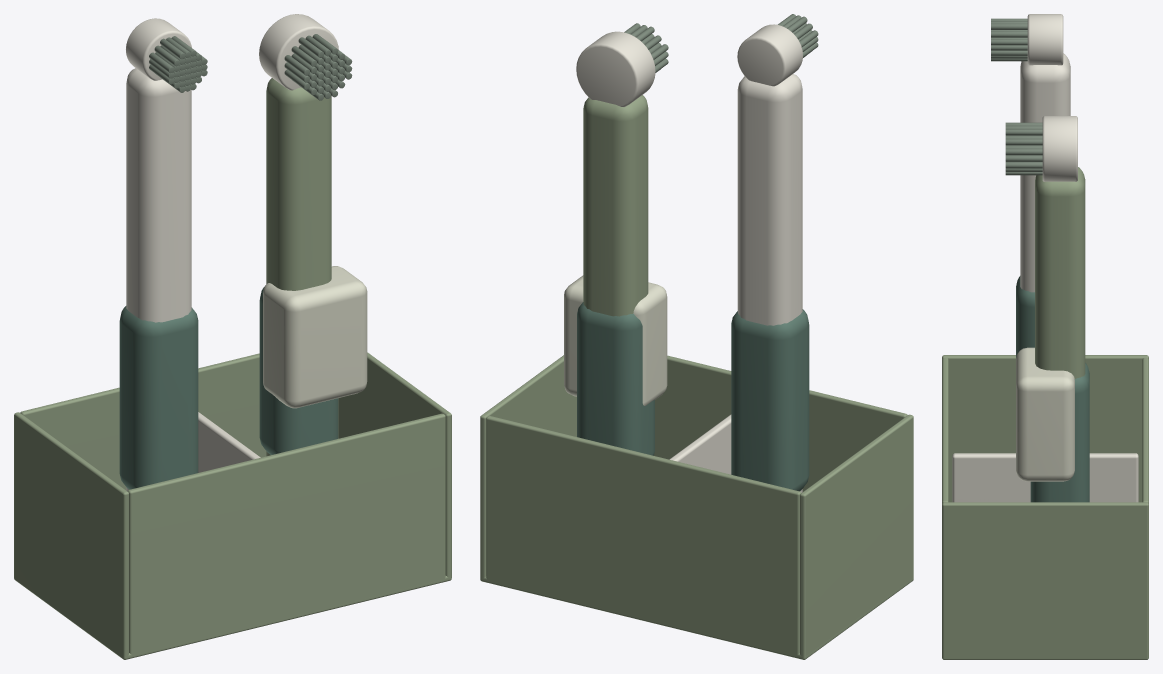
The model's file is appliance.glb.
The picture shows the model from 3 angles, left to right: view 1: azimuth 30°, elevation 25°; view 2: azimuth 150°, elevation 25°; view 3: azimuth 270°, elevation 25°; orthographic projection. The views are drawn at different scales.
Parts seen in each view (by area): view 1: Divided precision-tool holder front, Divided precision-tool holder left, Long precision brush handle, Long precision brush soft grip, Angled precision brush handle, Washable detail sleeve, Divided precision-tool holder back, Divided precision-tool holder right, Angled precision brush soft grip, Angled precision brush head, Dividing fin, Long precision brush head (+1 smaller); view 2: Divided precision-tool holder back, Divided precision-tool holder left, Long precision brush handle, Angled precision brush handle, Long precision brush soft grip, Divided precision-tool holder front, Angled precision brush soft grip, Divided precision-tool holder right, Washable detail sleeve, Angled precision brush head, Long precision brush head, Dividing fin; view 3: Divided precision-tool holder right, Divided precision-tool holder left, Angled precision brush handle, Washable detail sleeve, Dividing fin, Long precision brush handle, Angled precision brush soft grip, Angled precision brush head, Long precision brush head, Long precision brush soft grip, Divided precision-tool holder back, Divided precision-tool holder front.
Part boxes in pixels (x1,y1,x2,y2): Divided precision-tool holder front: (127, 413, 445, 658); Divided precision-tool holder left: (14, 412, 128, 659); Long precision brush handle: (126, 68, 191, 491); Long precision brush soft grip: (119, 306, 198, 489); Angled precision brush handle: (266, 78, 331, 456); Washable detail sleeve: (263, 266, 367, 408); Divided precision-tool holder back: (20, 353, 338, 490); Divided precision-tool holder right: (338, 352, 451, 578); Angled precision brush soft grip: (259, 286, 338, 454); Angled precision brush head: (259, 14, 338, 90); Dividing fin: (198, 412, 260, 472); Long precision brush head: (126, 18, 191, 80); Divided precision-tool holder back: (486, 416, 801, 658); Divided precision-tool holder left: (800, 414, 913, 659); Long precision brush handle: (737, 74, 802, 492); Angled precision brush handle: (583, 95, 648, 316); Long precision brush soft grip: (731, 309, 809, 491); Divided precision-tool holder front: (654, 355, 907, 491); Angled precision brush soft grip: (577, 302, 654, 455); Divided precision-tool holder right: (480, 355, 576, 581); Washable detail sleeve: (564, 275, 667, 405); Angled precision brush head: (576, 31, 655, 106); Long precision brush head: (737, 24, 802, 86); Dividing fin: (669, 414, 731, 474); Divided precision-tool holder right: (942, 502, 1148, 659); Divided precision-tool holder left: (942, 355, 1148, 502); Angled precision brush handle: (1035, 167, 1085, 378); Washable detail sleeve: (1016, 347, 1074, 481); Dividing fin: (952, 453, 1138, 502); Long precision brush handle: (1020, 53, 1070, 292); Angled precision brush soft grip: (1030, 363, 1089, 502); Angled precision brush head: (1042, 116, 1077, 181); Long precision brush head: (1027, 14, 1063, 65); Long precision brush soft grip: (1016, 276, 1034, 357); Divided precision-tool holder back: (1142, 358, 1148, 503); Divided precision-tool holder front: (942, 358, 948, 503).
Size of the model in its own units: 0.12 by 0.2 by 0.07.
